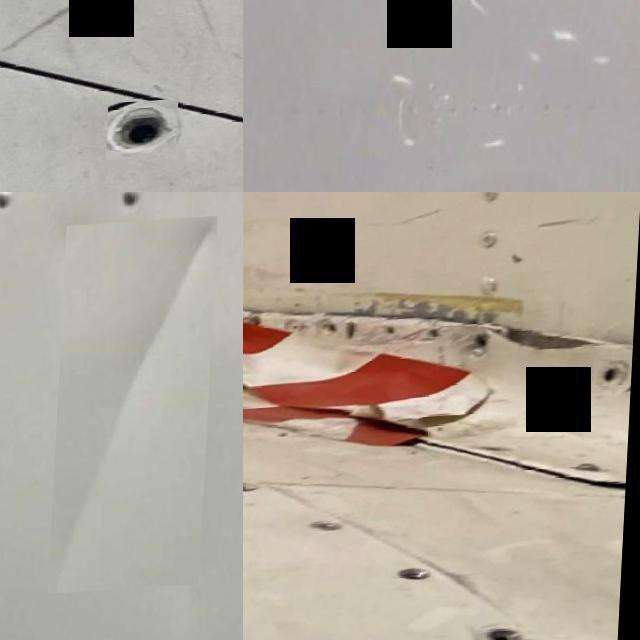Crack: (590, 482, 630, 520)
Dent: (53, 221, 217, 596)
Missing_Fastener: (108, 104, 181, 162), (596, 368, 632, 396), (396, 572, 436, 594), (490, 627, 528, 640)
